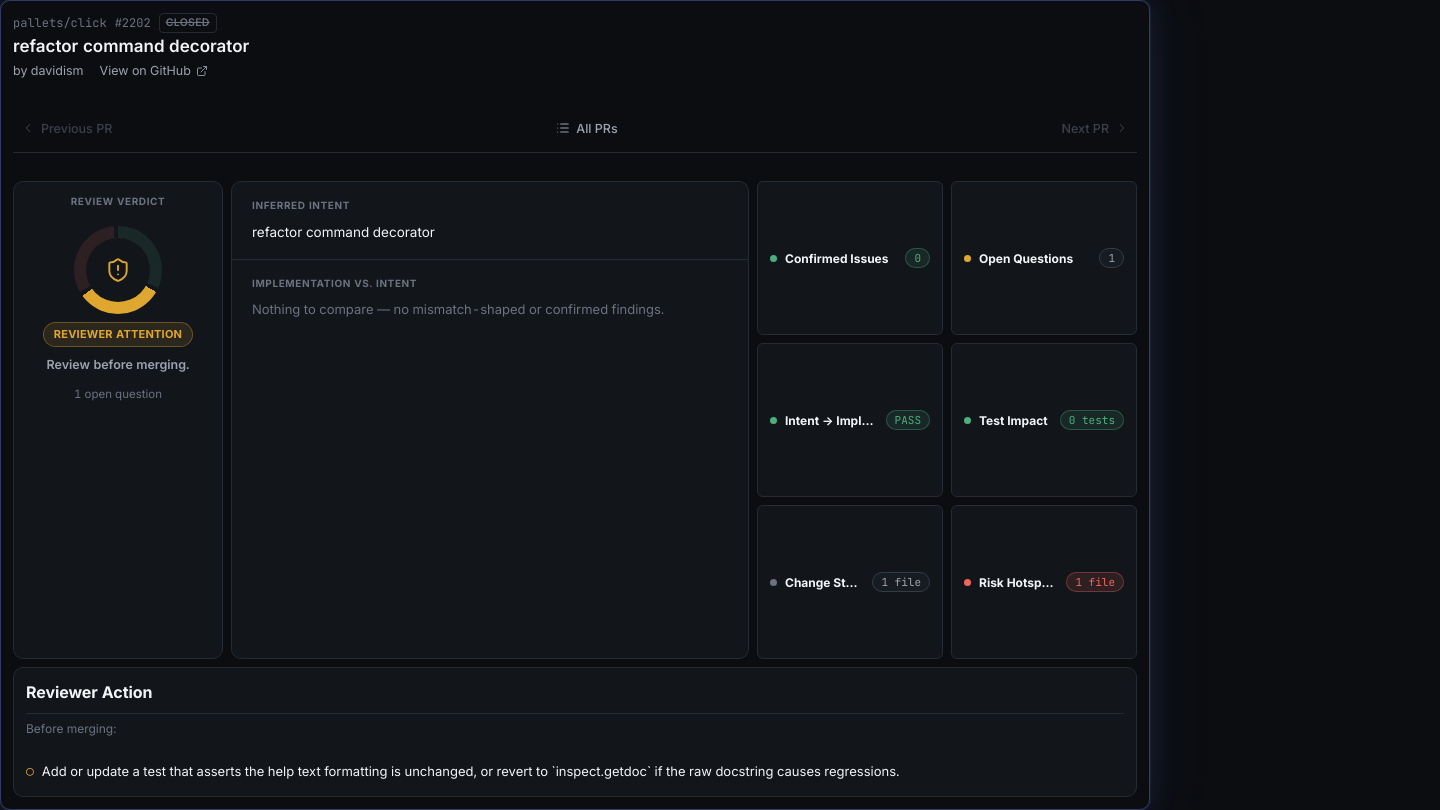
Test case: PRDetail against a real, captured POST /review/pr response › renders the real verdict, findings, and files without crashing
Expected: the text "REVIEWER ATTENTION" is shown, x1=43 y1=322 x2=193 y2=347
Step 1. Click the button "Change Story 1 file" → x=850, y=582, box x1=757 y1=505 x2=943 y2=659
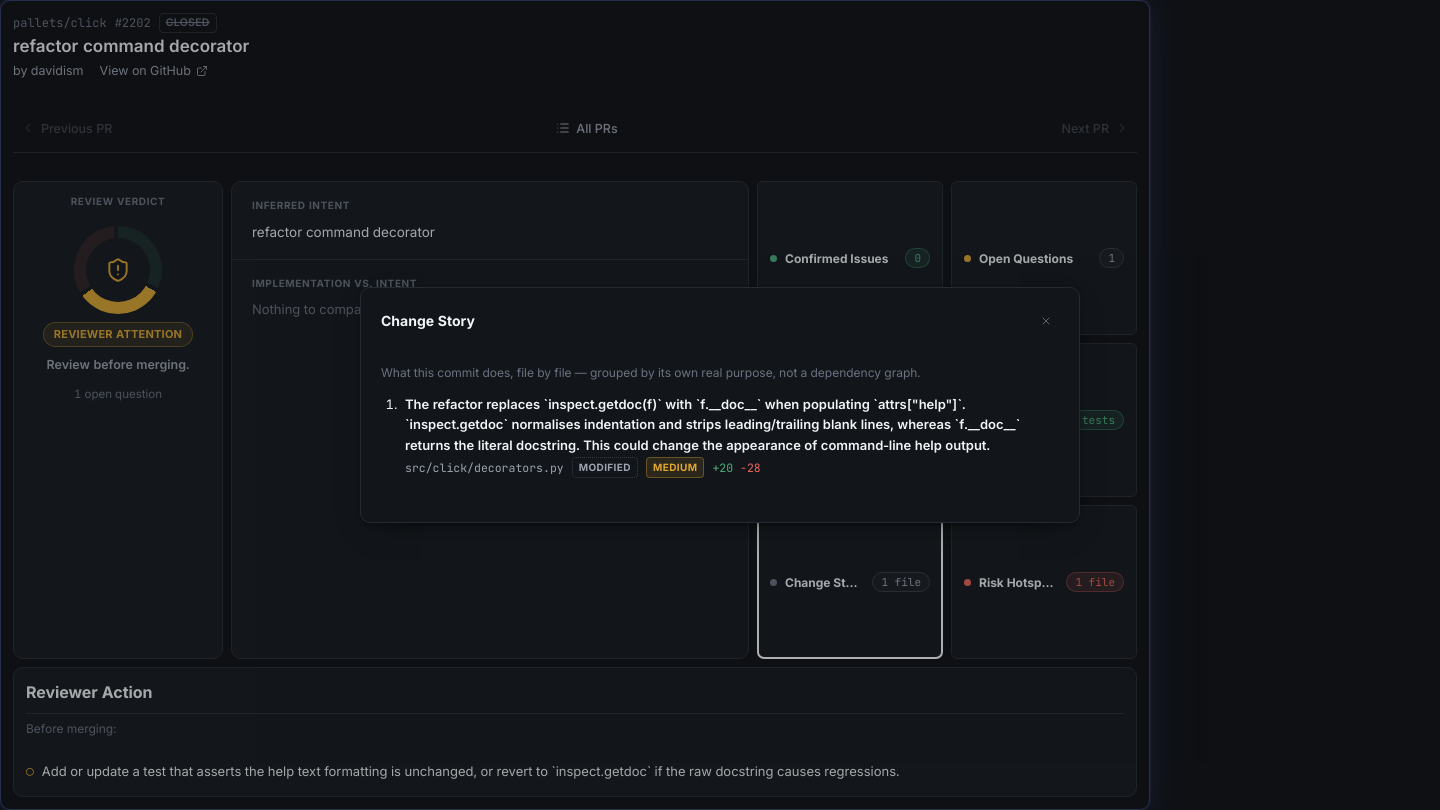
Now the text "src/click/decorators.py" is shown, box x1=405 y1=459 x2=564 y2=476
